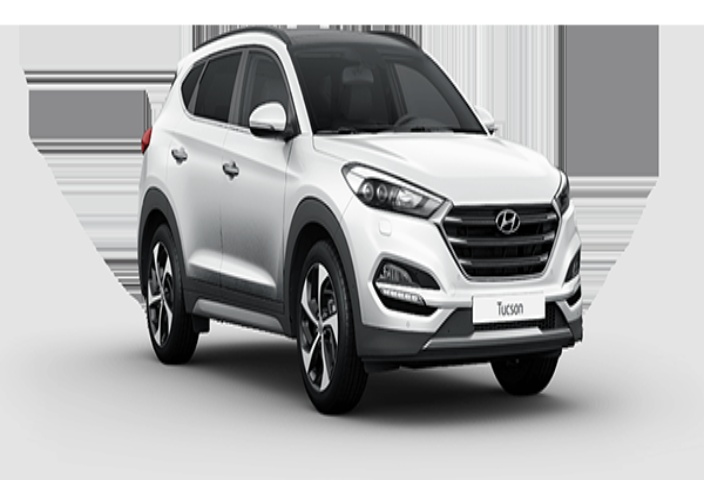camper: (102, 22, 599, 413)
